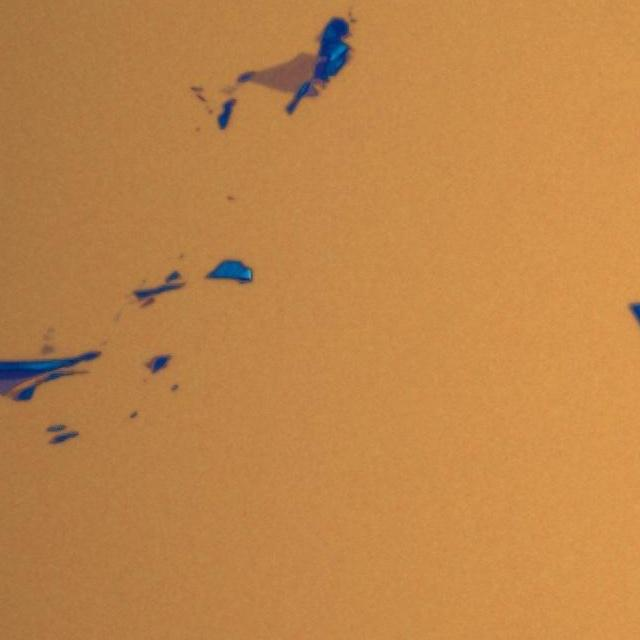monolayer-eWW4: (252, 49, 318, 94)
